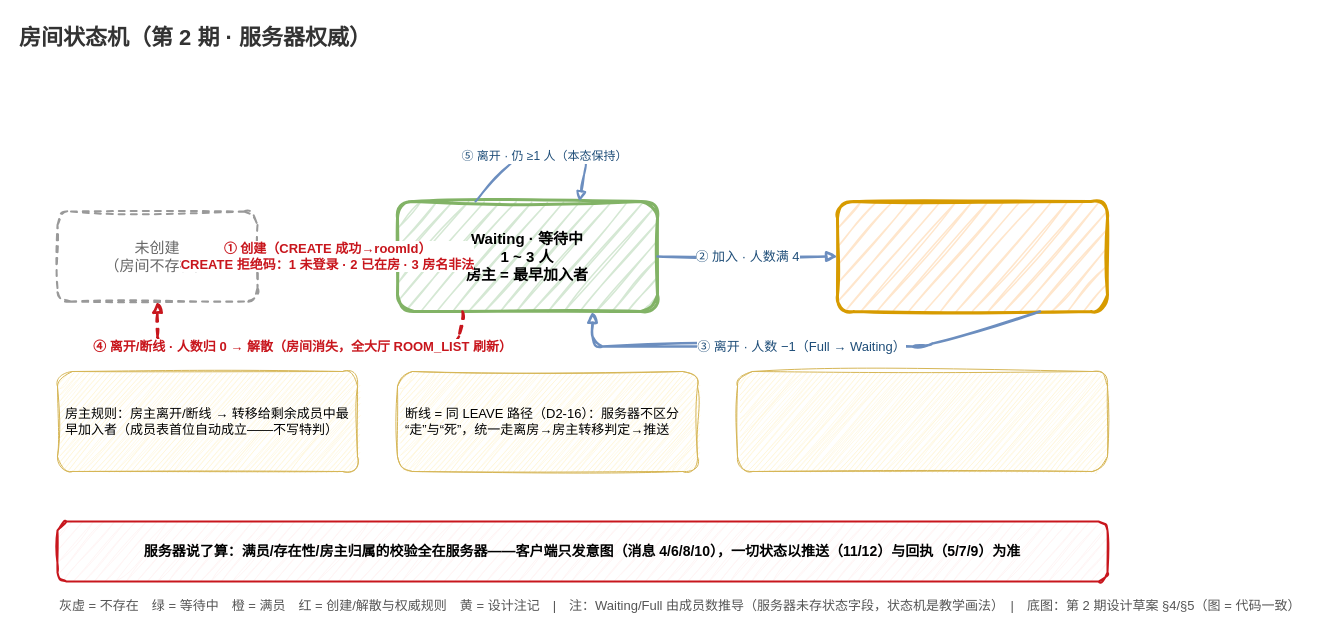
Some shapes in this 1318 by 634 pixel diagram are drawn without their labels. The centre of each missing label's shape, as x and y in pixels:
"Full · 满员 恰好 4 人 · Join 拒绝(码3)" belongs at point 972,256.
"进房其余拒绝码：1 未登录 · 2 房间不存在 · 4 已在房间——全部由服务器校验，客户端只发意图" belongs at point 922,421.
